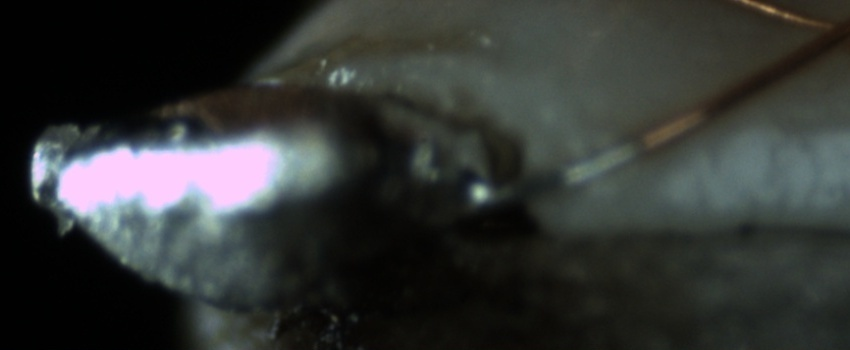CL: (780, 4, 848, 61)
TS: (483, 137, 642, 205)
